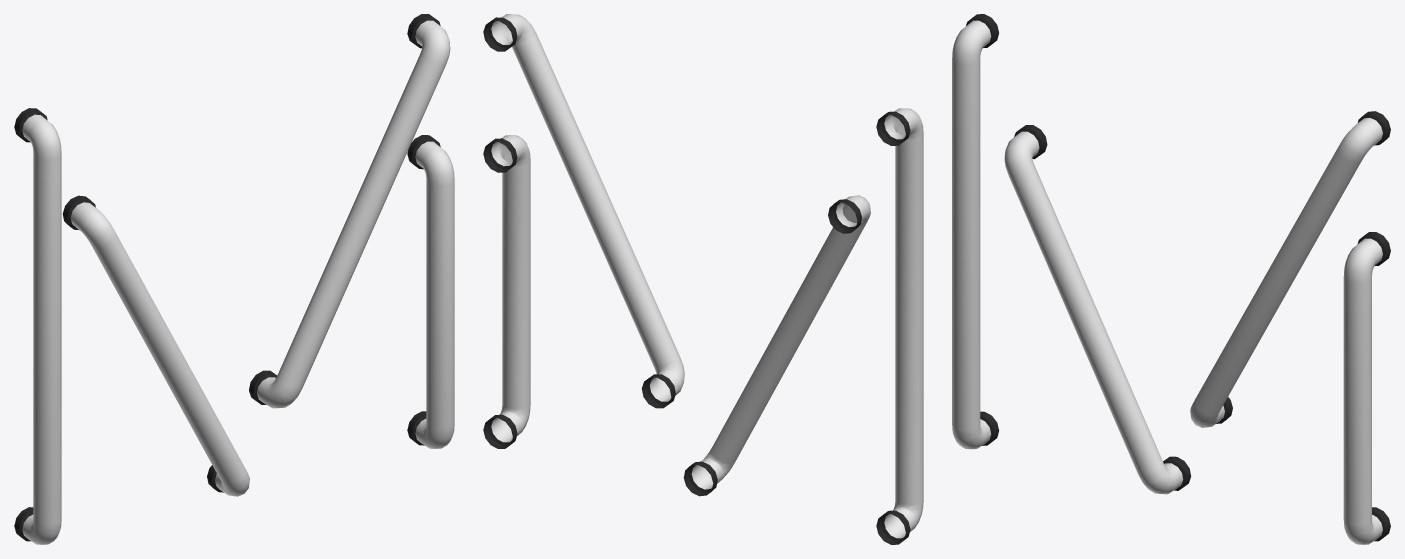
File: LettersNeon01_M.FBX
The picture shows the model from 3 angles, left to right: view 1: azimuth 30°, elevation 25°; view 2: azimuth 150°, elevation 25°; view 3: azimuth 330°, elevation 25°; orthographic projection.
Parts seen in each view (by area): view 1: LettersNeon01_M; view 2: LettersNeon01_M; view 3: LettersNeon01_M.
Boxes of the visible parts, box(x1,y1,x2,y2) form: LettersNeon01_M: box(14, 14, 454, 544); LettersNeon01_M: box(483, 14, 923, 544); LettersNeon01_M: box(952, 14, 1390, 544).
Size of what is drawn, in the model's own units: 0.5175 by 0.503 by 0.054.
